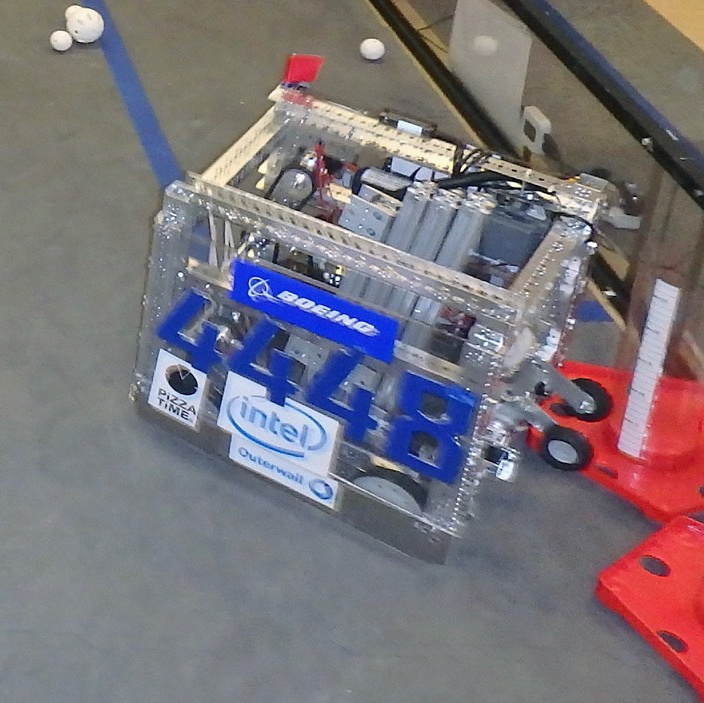robot: (124, 48, 623, 571)
